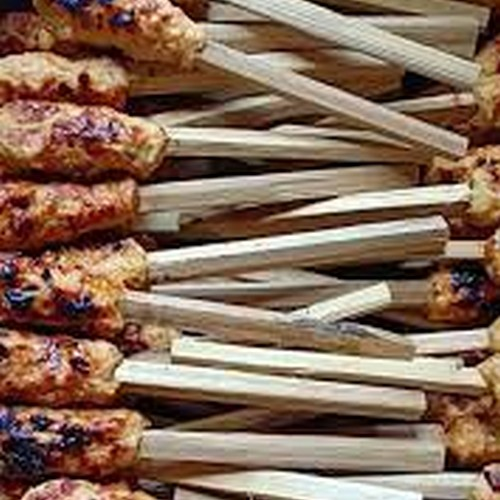sate lilit: (3, 5, 407, 500)
